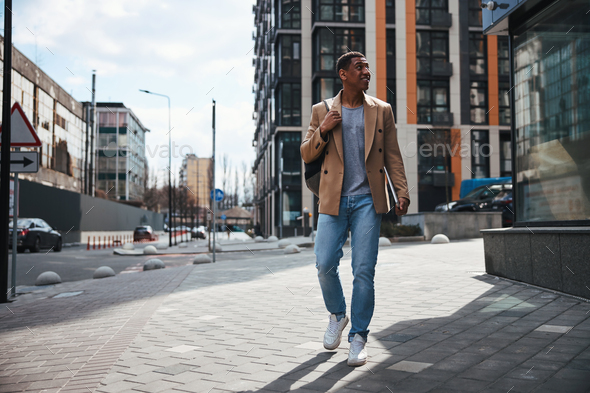car: (5, 215, 64, 258), (129, 226, 159, 241), (187, 224, 209, 240)
person: (296, 50, 414, 368)
